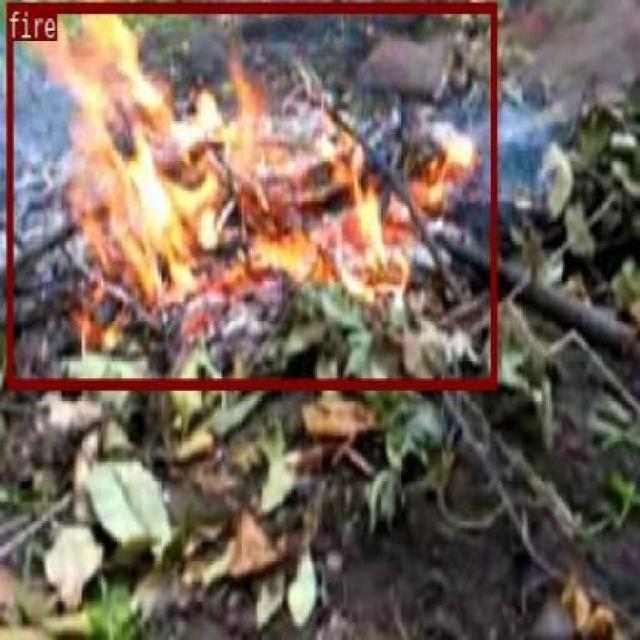Fire: (7, 1, 496, 387)
